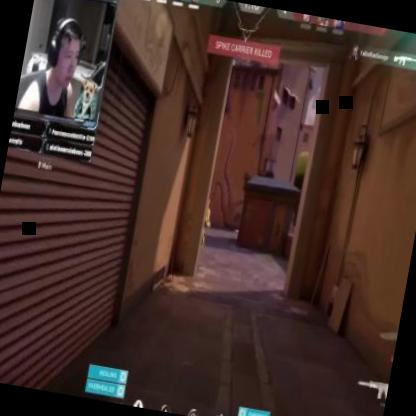enemy: (190, 195, 215, 256)
enemy_head: (206, 198, 212, 209)
